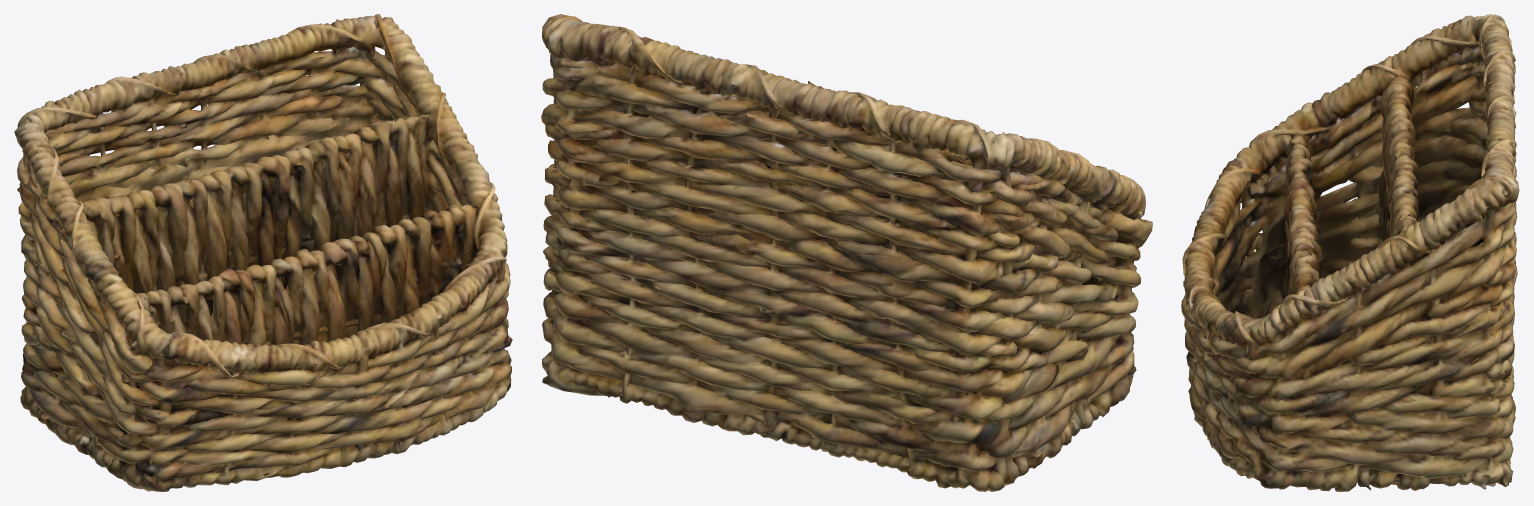
Rendered from Smith_Hawken_Woven_BasketTray_Organizer_with_3_Compartments_95_x_9_x_13.glb.
3 renders of one model, left to right at view 1: azimuth 30°, elevation 25°; view 2: azimuth 150°, elevation 25°; view 3: azimuth 270°, elevation 25°, orthographic. The views are drawn at different scales.
Parts seen in each view (by area): view 1: model.obj; view 2: model.obj; view 3: model.obj.
Boxes of the visible parts, bbox=[...] form: model.obj: bbox=[14, 14, 512, 491]; model.obj: bbox=[541, 14, 1152, 491]; model.obj: bbox=[1181, 14, 1519, 491].
Size of the model in its own units: 1 by 0.745 by 0.7137.
1 material, 1 textured.
